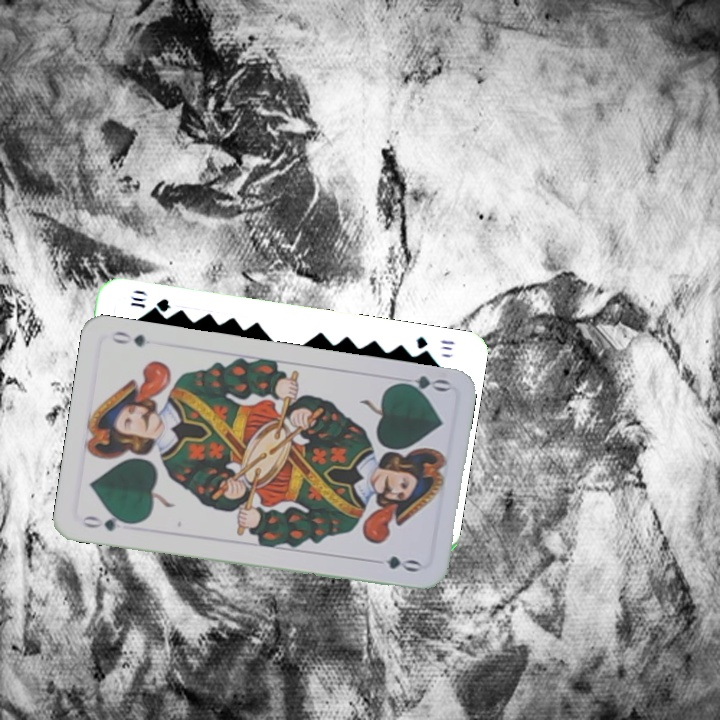G10: (412, 332, 457, 360)
GO: (391, 371, 452, 398), (78, 511, 137, 534)
